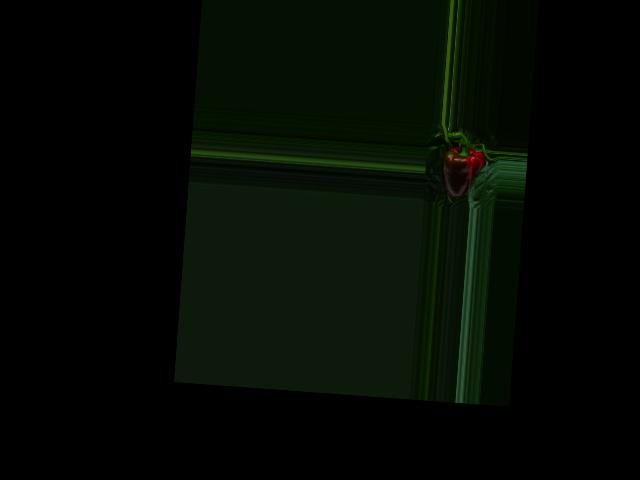bell_pepper: (433, 138, 489, 203)
